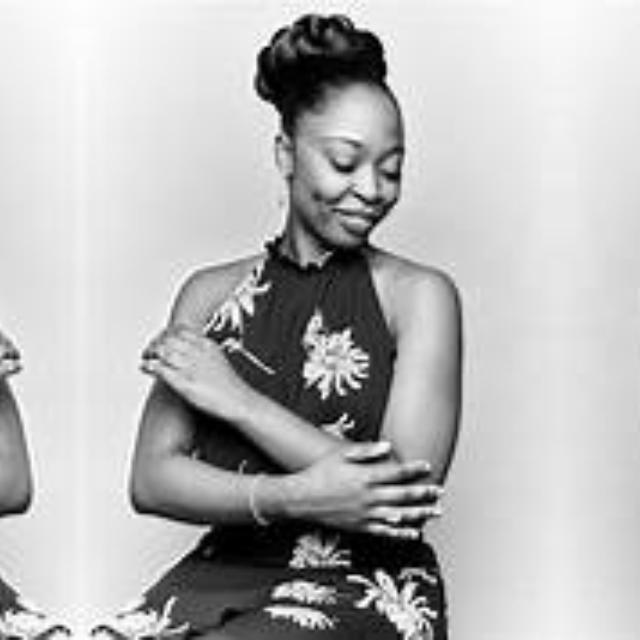person: (80, 16, 546, 640), (0, 16, 80, 639), (569, 16, 640, 639)
